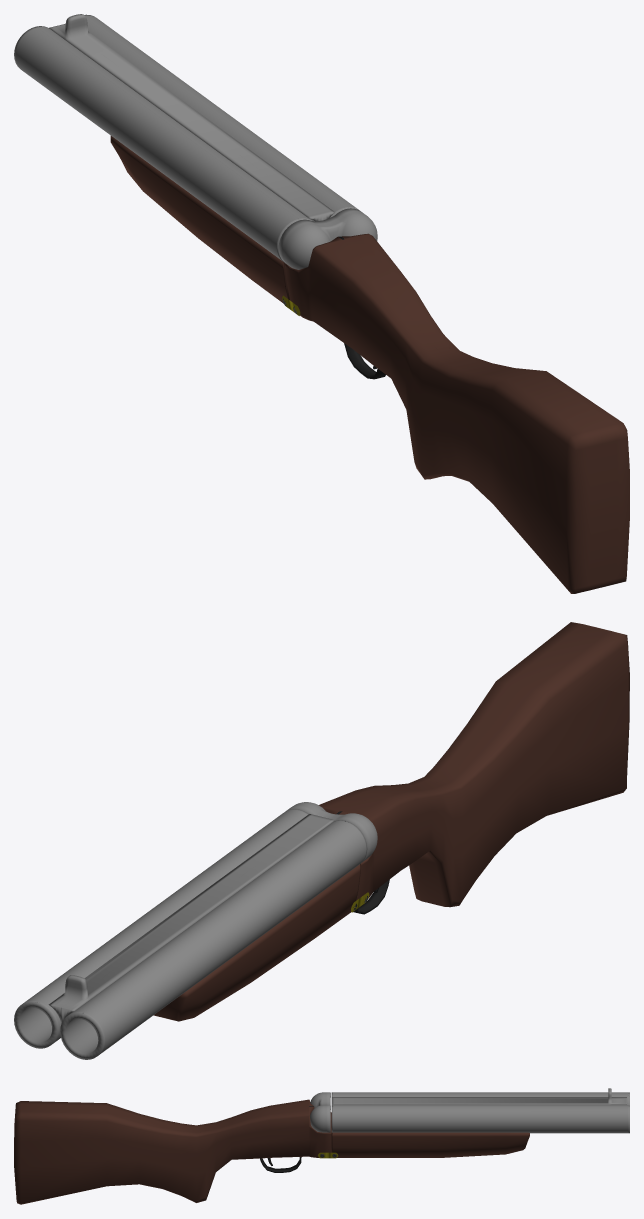
File: shotgun.glb
The picture shows the model from 3 angles, top to bottom: view 1: azimuth 30°, elevation 25°; view 2: azimuth 150°, elevation 25°; view 3: azimuth 270°, elevation 25°; orthographic projection. The views are drawn at different scales.
Parts seen in each view (by area): view 1: Cube.001; view 2: Cube.001; view 3: Cube.001.
Part boxes in pixels (x1=…): Cube.001: x1=14, y1=14, x2=629, y2=593; Cube.001: x1=14, y1=622, x2=629, y2=1059; Cube.001: x1=14, y1=1088, x2=629, y2=1204.
Size of the model in its own units: 1.26 by 2.59 by 13.23.
Materials: 1 (1 with a texture image).
